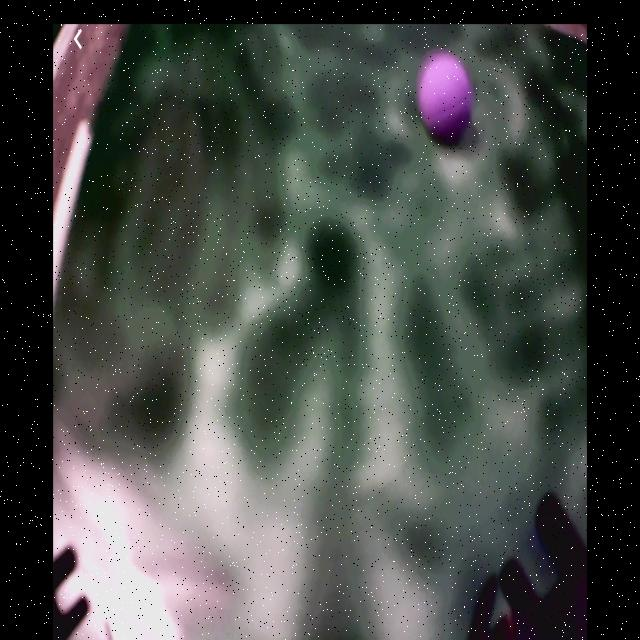ball: (418, 55, 474, 143)
